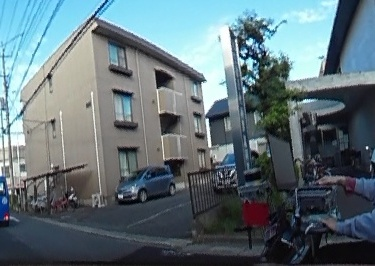person: (320, 62, 375, 266), (372, 136, 375, 174)
